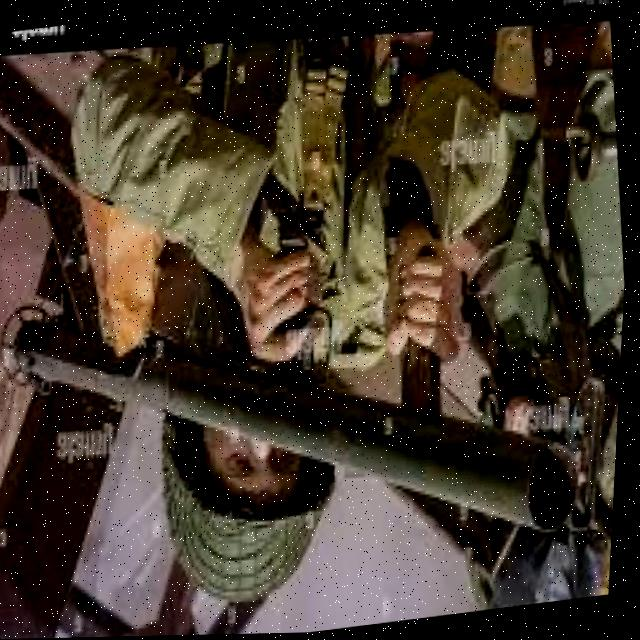rocket: (0, 240, 611, 611)
